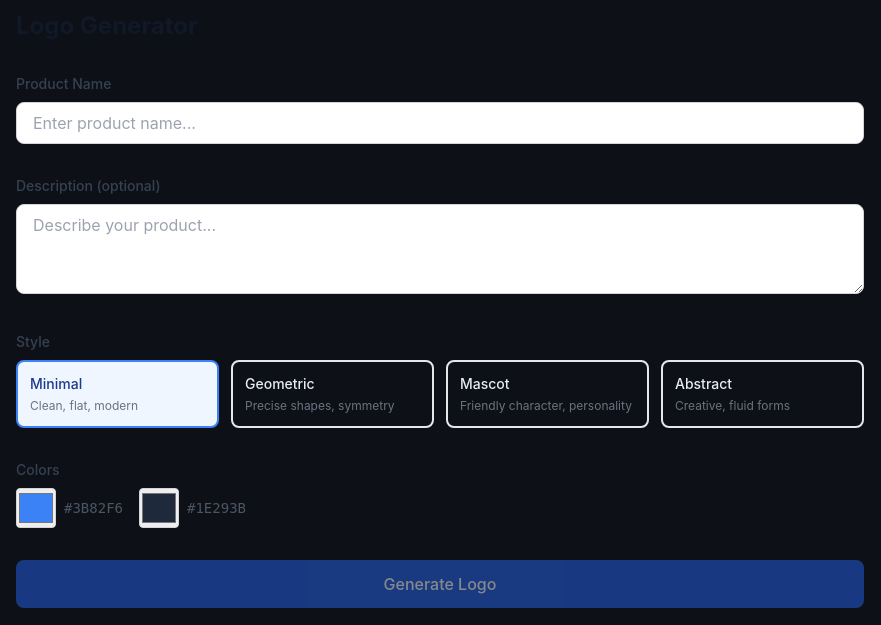
Test: LogoGenerator › enables generate button when product name is entered
The image size is (881, 625).
Type "MyApp" into the field with placeholder "Enter product name..." at (440, 123), box 16,102 -> 864,144
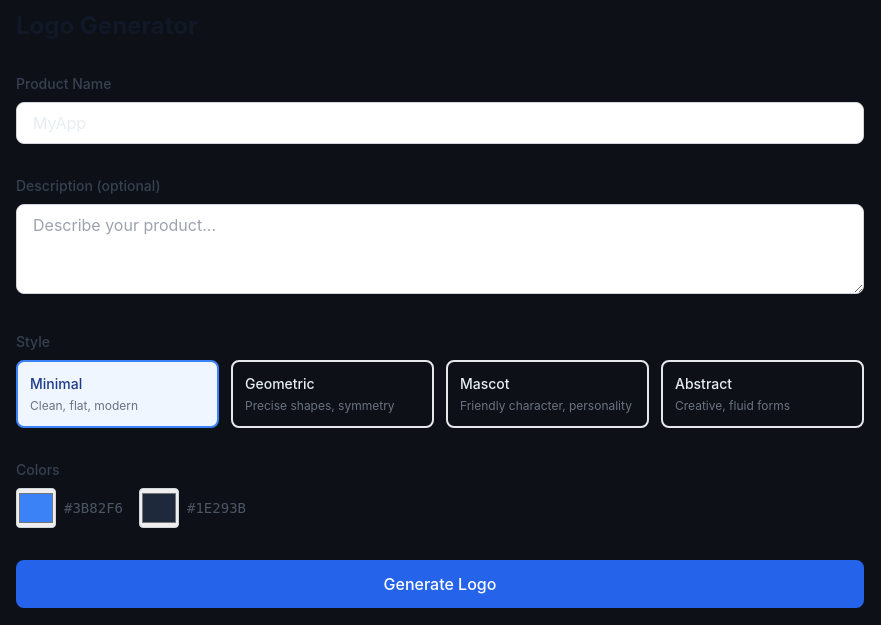
Check: the button "Generate Logo" is enabled, box 16,560 -> 864,608
